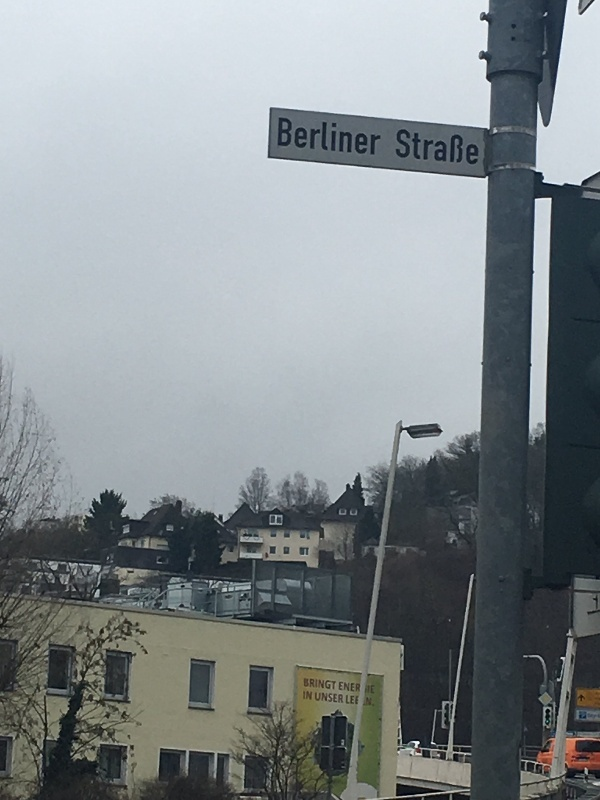text: (289, 118, 304, 157), (305, 118, 320, 157), (321, 118, 336, 157), (337, 118, 352, 157), (353, 118, 368, 157), (369, 118, 384, 157), (401, 129, 416, 167), (417, 129, 432, 167), (433, 129, 448, 167), (449, 129, 464, 167), (465, 129, 479, 167), (280, 118, 288, 157), (321, 678, 337, 690), (305, 678, 320, 690), (321, 693, 336, 704), (339, 682, 352, 693), (397, 129, 400, 167), (353, 682, 361, 693), (305, 691, 313, 701), (337, 693, 344, 704), (346, 695, 352, 706), (353, 695, 359, 706), (315, 693, 320, 704), (369, 685, 375, 694), (369, 698, 375, 707), (366, 698, 368, 707), (303, 691, 304, 701)
